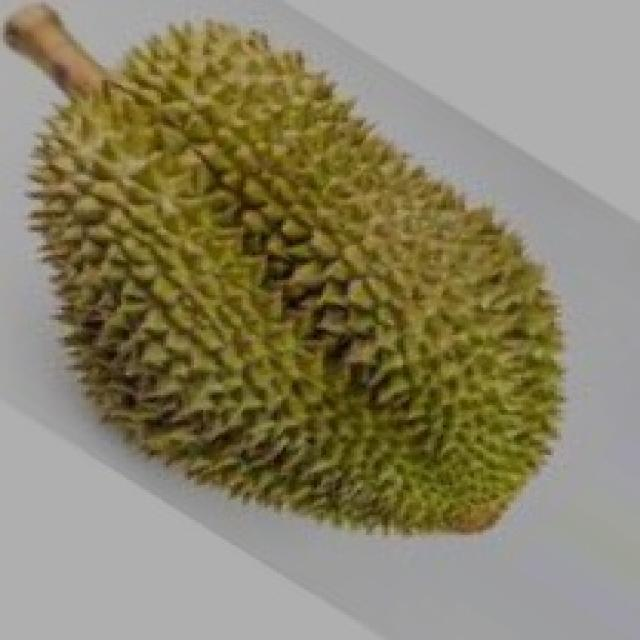fruit: (6, 205, 388, 595), (243, 185, 609, 583)
